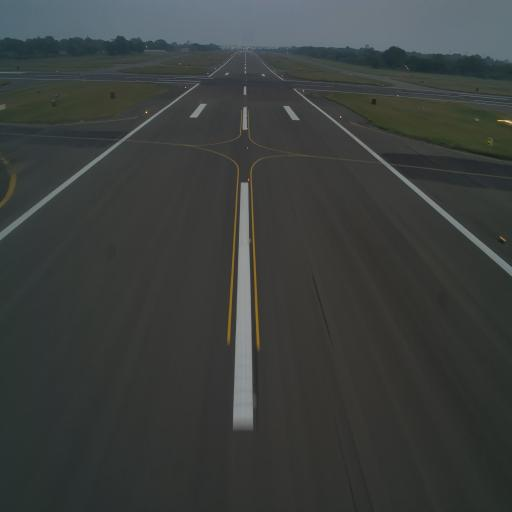on: (250, 389, 260, 412), (498, 230, 510, 244), (247, 235, 252, 246), (144, 109, 149, 117), (246, 176, 250, 186), (246, 145, 250, 152), (338, 114, 343, 119), (246, 126, 250, 131), (184, 84, 188, 89), (244, 98, 248, 102), (246, 104, 249, 109), (302, 88, 305, 92), (246, 114, 248, 118)
